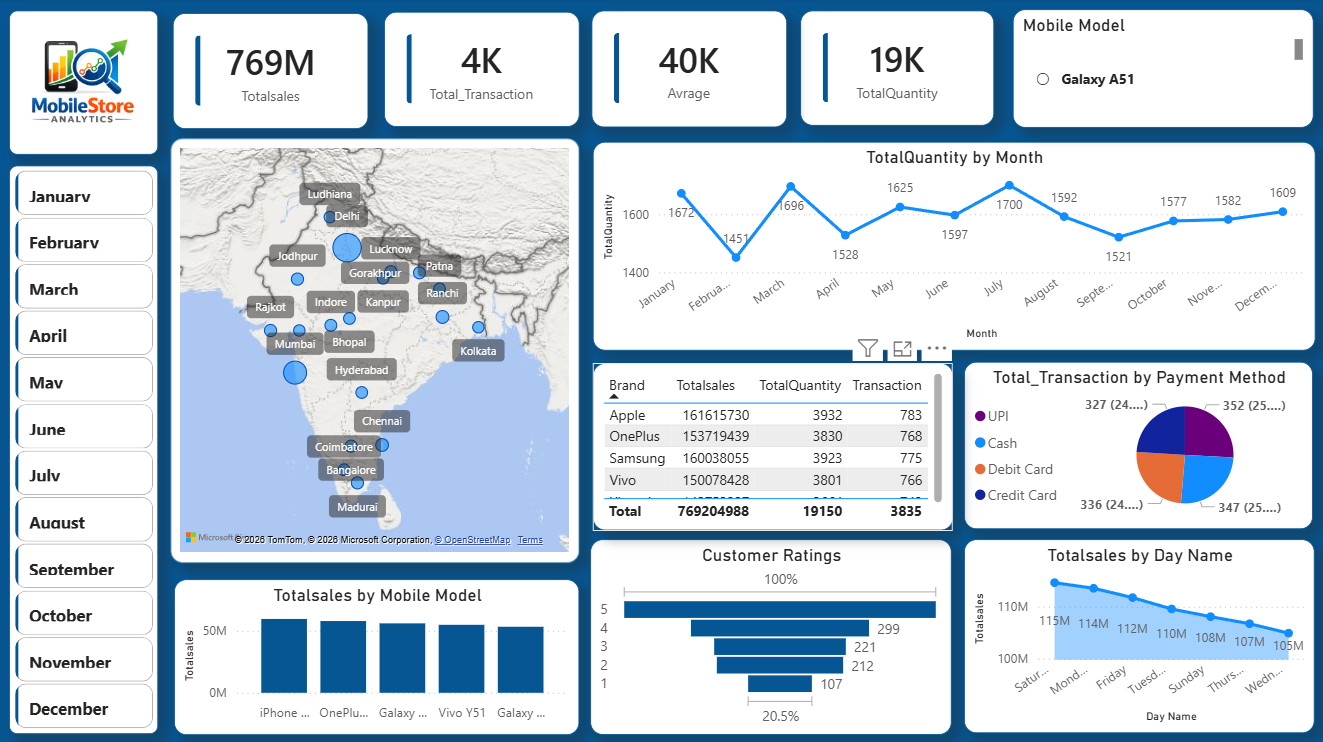

The dashboard page shown, as its layout file describes it:
{"tool":"powerbi","page":{"name":"Page 1","canvas":[1280,720],"ordinal":0},"visuals":[{"type":"shape","box":[10,11.8,144.1,139.4],"z":0},{"type":"image","box":[0,0,167.6,177.1],"z":1000},{"type":"shape","box":[10,161.4,144.3,548.6],"z":2000},{"type":"advancedSlicerVisual","fields":{"Values":["Sales_Data.Date.Variation.Date Hierarchy.Month"]},"box":[11.2,161.2,143.8,550],"z":3000},{"type":"cardVisual","fields":{"Data":["Sales_Data.Total_Transaction"]},"box":[371.2,13.8,188.8,111.2],"z":4000},{"type":"cardVisual","fields":{"Data":["Sales_Data.Totalsales"]},"box":[168,14,189,112],"z":5000},{"type":"cardVisual","fields":{"Data":["Sales_Data.TotalQuantity"]},"box":[773.8,12.5,187.5,111.2],"z":6000},{"type":"cardVisual","fields":{"Data":["Sales_Data.Avrage"]},"box":[571.2,12.5,188.8,112.5],"z":7000},{"type":"map","fields":{"Category":["Sales_Data.City"],"Size":["Sales_Data.Totalsales"]},"box":[165,135,395,410],"z":8000},{"type":"lineChart","fields":{"Category":["Sales_Data.Date.Variation.Date Hierarchy.Month","Sales_Data.Date.Variation.Date Hierarchy.Day"],"Y":["Sales_Data.TotalQuantity"]},"box":[572.5,138.8,697.5,201.2],"z":9000},{"type":"clusteredColumnChart","fields":{"Category":["Sales_Data.Mobile Model"],"Y":["Sales_Data.Totalsales"]},"box":[168.6,561.4,391.4,150],"z":10000},{"type":"pieChart","fields":{"Category":["Sales_Data.Payment Method"],"Y":["Sales_Data.Total_Transaction"]},"box":[931.4,351.4,337.1,161.4],"z":11000},{"type":"funnel","title":"Customer Ratings","fields":{"Category":["Sales_Data.Customer Ratings"],"Y":["CountNonNull(Sales_Data.Customer Ratings)"]},"box":[571.1,522.2,348.9,188.9],"z":12000},{"type":"stackedAreaChart","fields":{"Category":["Sales_Data.Day Name"],"Y":["Sales_Data.Totalsales"]},"box":[931.2,522.5,338.8,187.5],"z":13000},{"type":"tableEx","fields":{"Values":["Sales_Data.Brand","Sales_Data.Totalsales","Sales_Data.TotalQuantity","Sales_Data.Total_Transaction"]},"box":[572.7,351.8,348.2,161.8],"z":14000},{"type":"advancedSlicerVisual","fields":{"Values":["Sales_Data.Mobile Model"]},"box":[978.6,11.4,290,114.3],"z":15000}]}

Visuals, with their boxes in screenshot pixels (x1, y1, x2, y2), scaled from the page's 1280x720 canvas onto the 1323x742 screenshot:
shape: [left=10, top=12, right=159, bottom=156]
image: [left=0, top=0, right=173, bottom=183]
shape: [left=10, top=166, right=159, bottom=732]
advancedSlicerVisual - Sales_Data.Date.Variation.Date Hierarchy.Month: [left=12, top=166, right=160, bottom=733]
cardVisual - Sales_Data.Total_Transaction: [left=384, top=14, right=579, bottom=129]
cardVisual - Sales_Data.Totalsales: [left=174, top=14, right=369, bottom=130]
cardVisual - Sales_Data.TotalQuantity: [left=800, top=13, right=994, bottom=127]
cardVisual - Sales_Data.Avrage: [left=590, top=13, right=786, bottom=129]
map - Sales_Data.City x Sales_Data.Totalsales: [left=171, top=139, right=579, bottom=562]
lineChart - Sales_Data.Date.Variation.Date Hierarchy.Month x Sales_Data.Date.Variation.Date Hierarchy.Day: [left=592, top=143, right=1313, bottom=350]
clusteredColumnChart - Sales_Data.Mobile Model x Sales_Data.Totalsales: [left=174, top=579, right=579, bottom=733]
pieChart - Sales_Data.Payment Method x Sales_Data.Total_Transaction: [left=963, top=362, right=1311, bottom=528]
"Customer Ratings" funnel: [left=590, top=538, right=951, bottom=733]
stackedAreaChart - Sales_Data.Day Name x Sales_Data.Totalsales: [left=962, top=538, right=1313, bottom=732]
tableEx - Sales_Data.Brand x Sales_Data.Totalsales: [left=592, top=363, right=952, bottom=529]
advancedSlicerVisual - Sales_Data.Mobile Model: [left=1011, top=12, right=1311, bottom=130]
